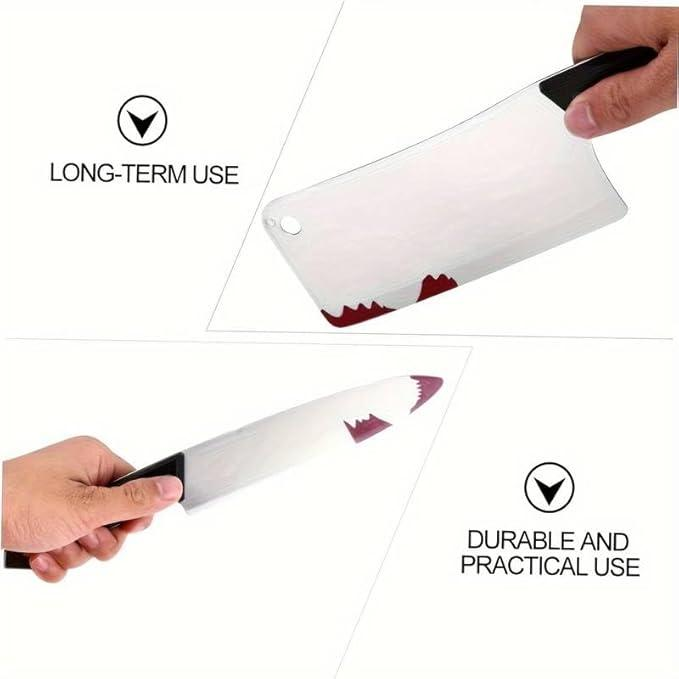Knife: (255, 47, 654, 331), (3, 369, 448, 579), (0, 427, 185, 586), (3, 426, 185, 586), (561, 3, 679, 141), (560, 5, 679, 141)
